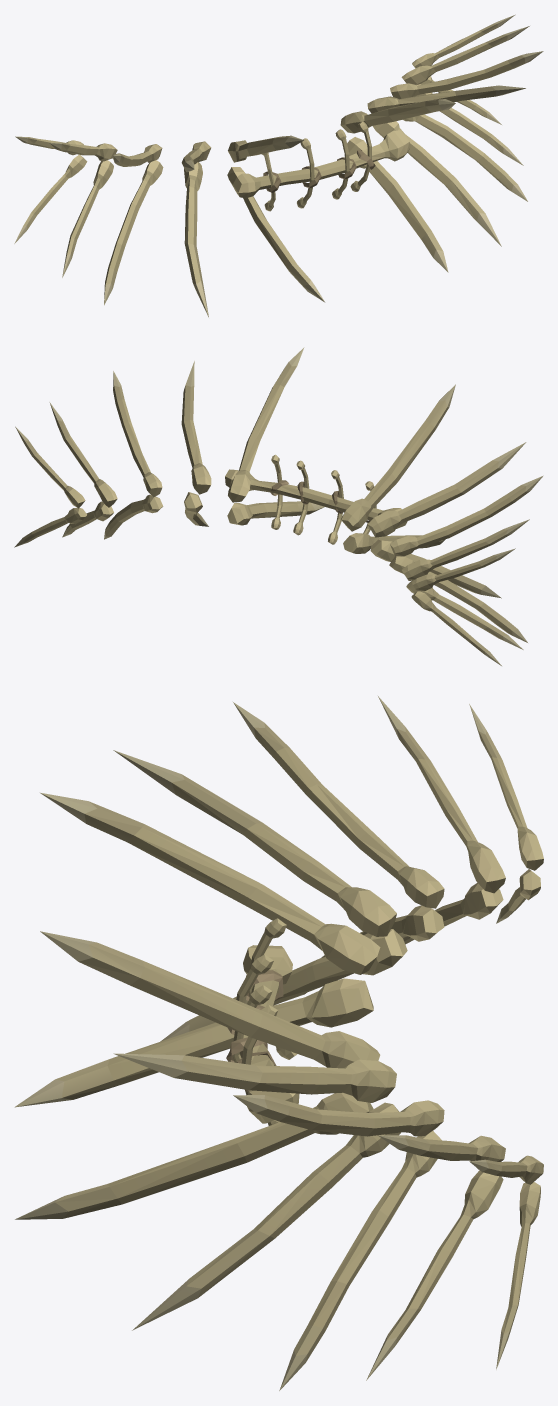
File: smallCrossbowTribeTip.glb
The picture shows the model from 3 angles, top to bottom: view 1: azimuth 30°, elevation 25°; view 2: azimuth 150°, elevation 25°; view 3: azimuth 270°, elevation 25°; orthographic projection. The views are drawn at different scales.
Visible parts, largest first — view 1: smallCrossbowTribeTip; view 2: smallCrossbowTribeTip; view 3: smallCrossbowTribeTip.
Part boxes in pixels (<box>): smallCrossbowTribeTip: <box>14,14,543,317</box>; smallCrossbowTribeTip: <box>14,347,543,665</box>; smallCrossbowTribeTip: <box>14,696,543,1390</box>.
Size of the model in its own units: 0.4986 by 0.1703 by 0.2438.
